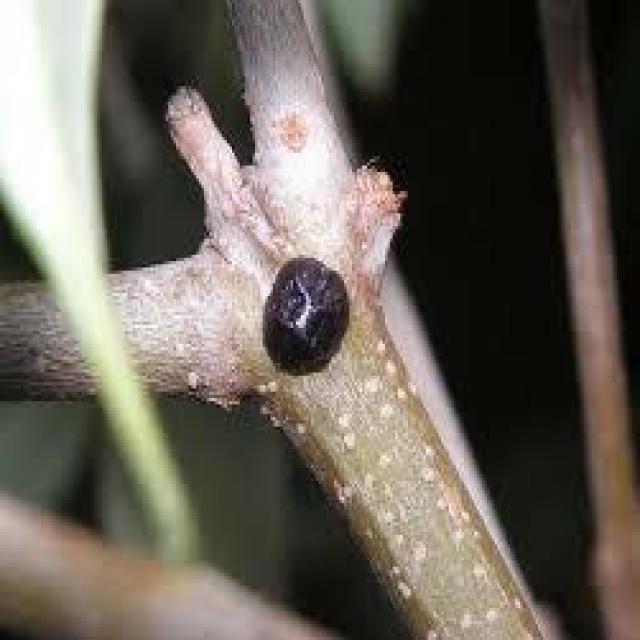Olive Fruit Fly: (263, 258, 349, 373)
